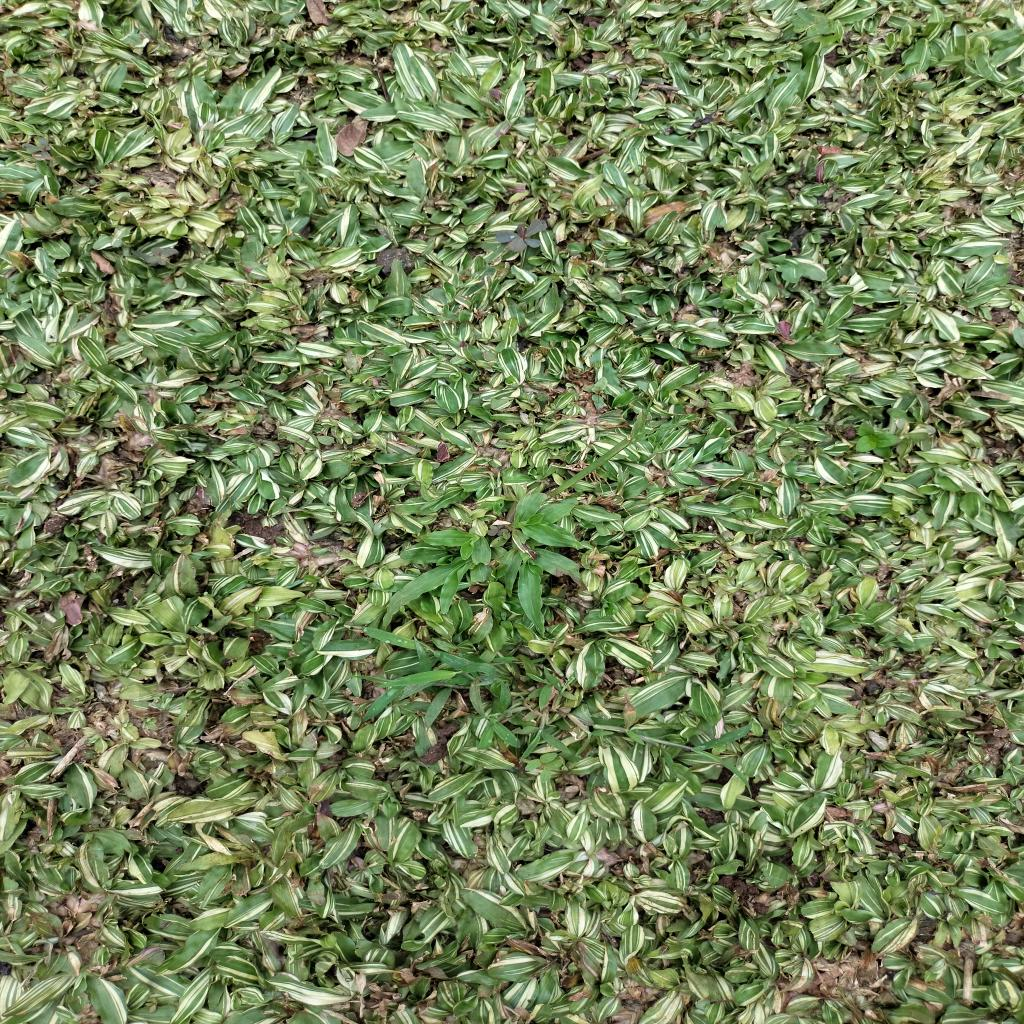buah daun: (493, 217, 548, 254), (791, 6, 832, 38), (129, 245, 181, 268)
rambat atas: (354, 637, 524, 713), (619, 722, 762, 798), (526, 671, 615, 762), (467, 677, 544, 748)
rambat bawah: (498, 532, 584, 636), (383, 563, 470, 630), (507, 492, 590, 560), (420, 528, 494, 568)
ungu tunggang: (854, 420, 902, 461), (583, 376, 609, 412)
